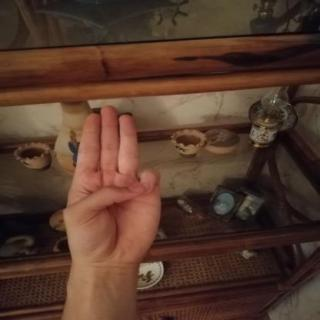THA: (52, 98, 170, 274)
